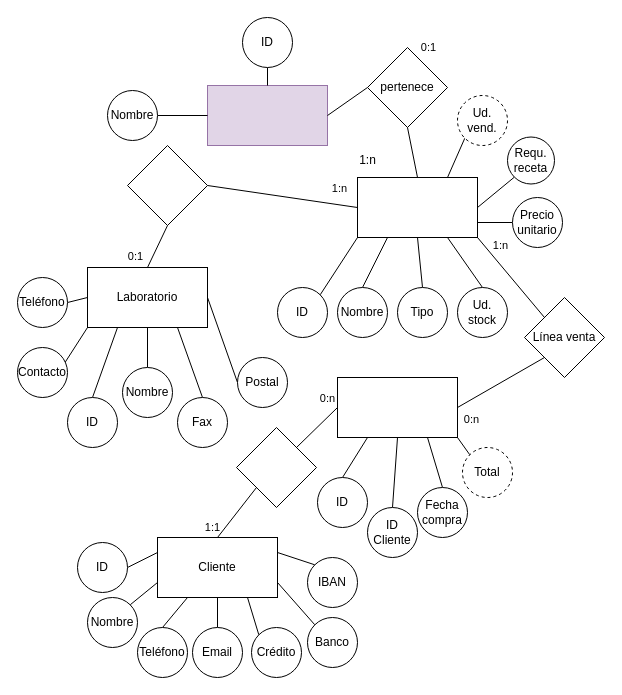
Some shapes in this 622 by 695 pixel diagram are drawn without their labels. The centre of each missing label's shape, as x and y in pixels:
Familia: the point at 267,115
Medicamentos: the point at 417,207
realiza: the point at 276,467
suministra: the point at 167,185
Venta: the point at 397,407
